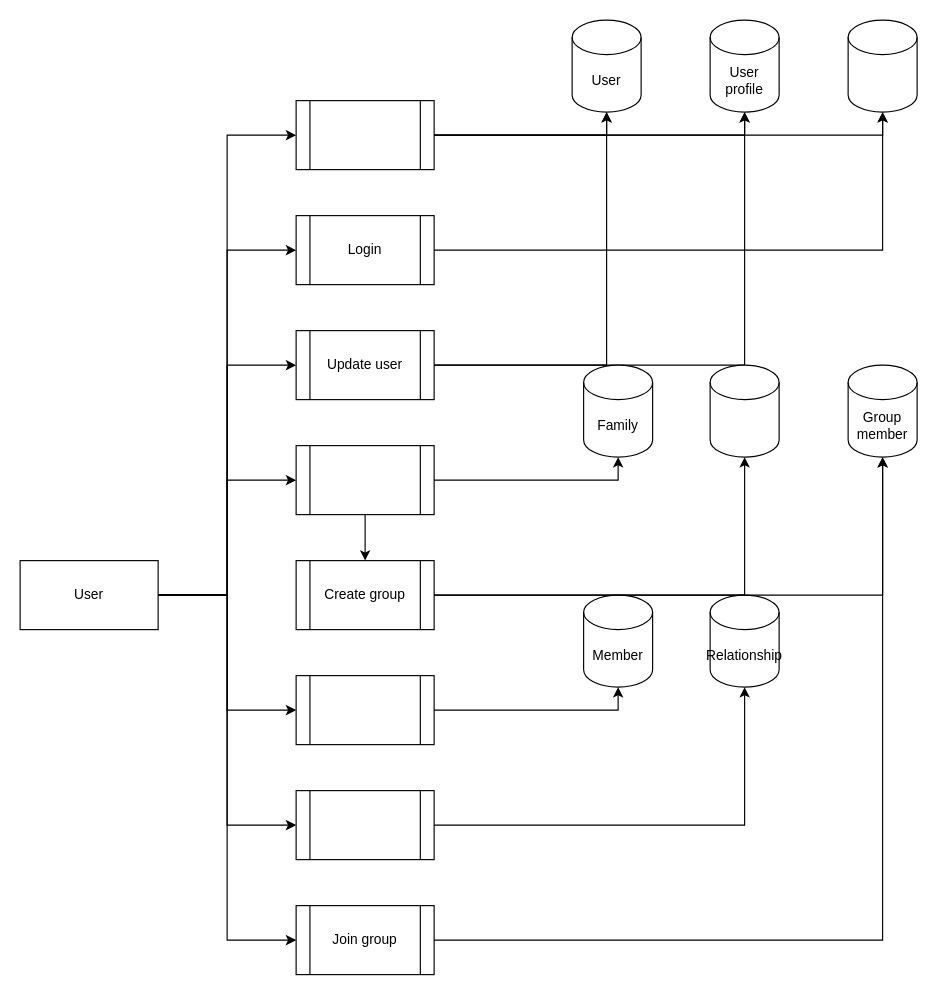
Image size: 937x995. Some labels were removed from this diagram. Each missing label, with the centre of its shape:
"Create family" belongs at point 364,479.
"Create member" belongs at point 364,709.
"Create relationship" belongs at point 364,824.
"Group" belongs at point 744,410.
"Register" belongs at point 364,134.
"Session" belongs at point 882,65.
